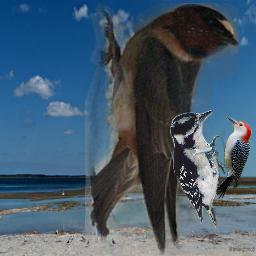Swallow: (85, 3, 239, 255)
Woodpecker: (170, 110, 222, 230), (213, 116, 252, 199)
